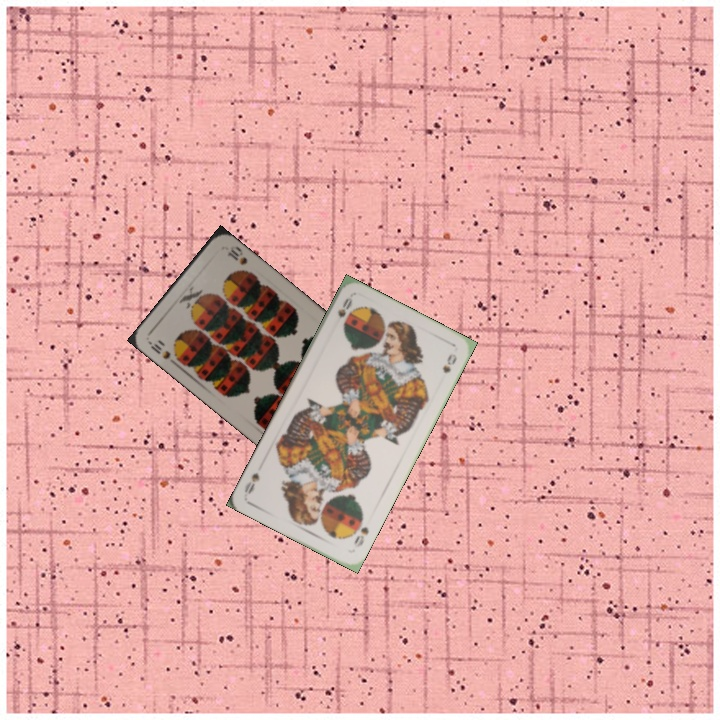S10: (145, 337, 181, 368)
SO: (349, 513, 371, 550), (333, 293, 355, 320)
